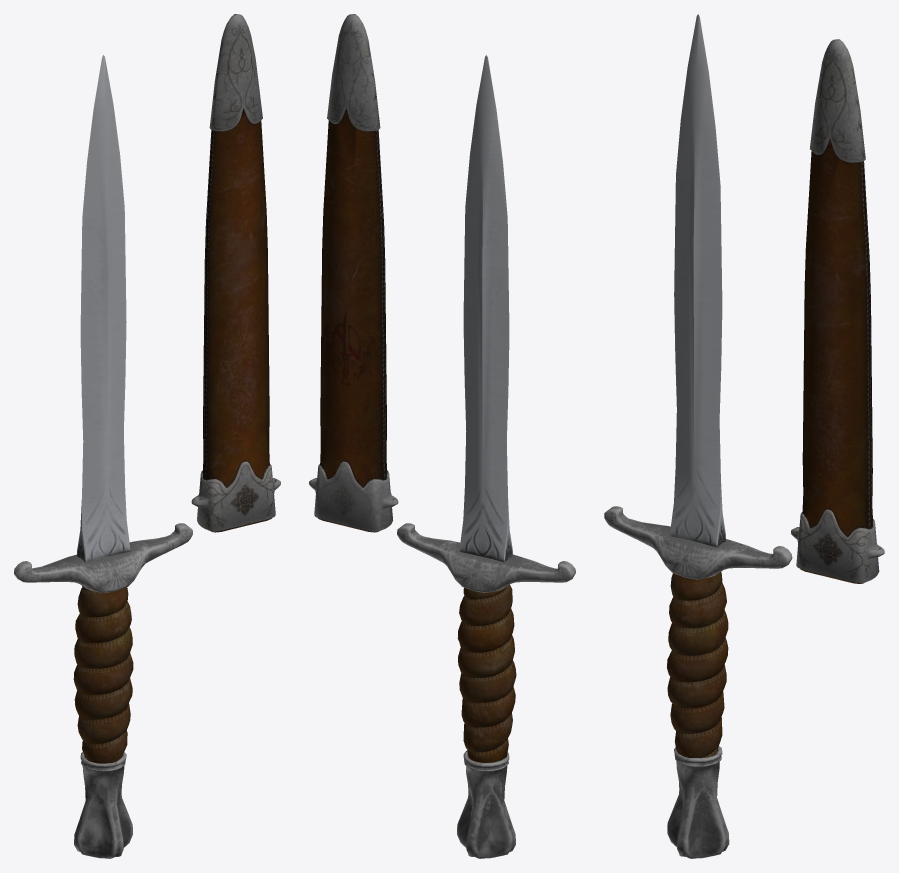
File: ornate_medieval_dagger.glb
3 views of the same model, side by side, from view 1: azimuth 30°, elevation 25°; view 2: azimuth 150°, elevation 25°; view 3: azimuth 330°, elevation 25° (orthographic). The views are drawn at different scales.
Parts seen in each view (by area): view 1: ornate_medieval_dagger, ornate_medieval_dagger_scabbard; view 2: ornate_medieval_dagger, ornate_medieval_dagger_scabbard; view 3: ornate_medieval_dagger, ornate_medieval_dagger_scabbard.
Part boxes in pixels (<box>): ornate_medieval_dagger: <box>14,55,192,858</box>; ornate_medieval_dagger_scabbard: <box>191,14,280,532</box>; ornate_medieval_dagger: <box>397,55,575,858</box>; ornate_medieval_dagger_scabbard: <box>309,14,398,532</box>; ornate_medieval_dagger: <box>604,14,792,858</box>; ornate_medieval_dagger_scabbard: <box>791,39,884,583</box>.
Size of the model in its own units: 0.1201 by 0.3489 by 0.025.
1 material, 1 textured.
